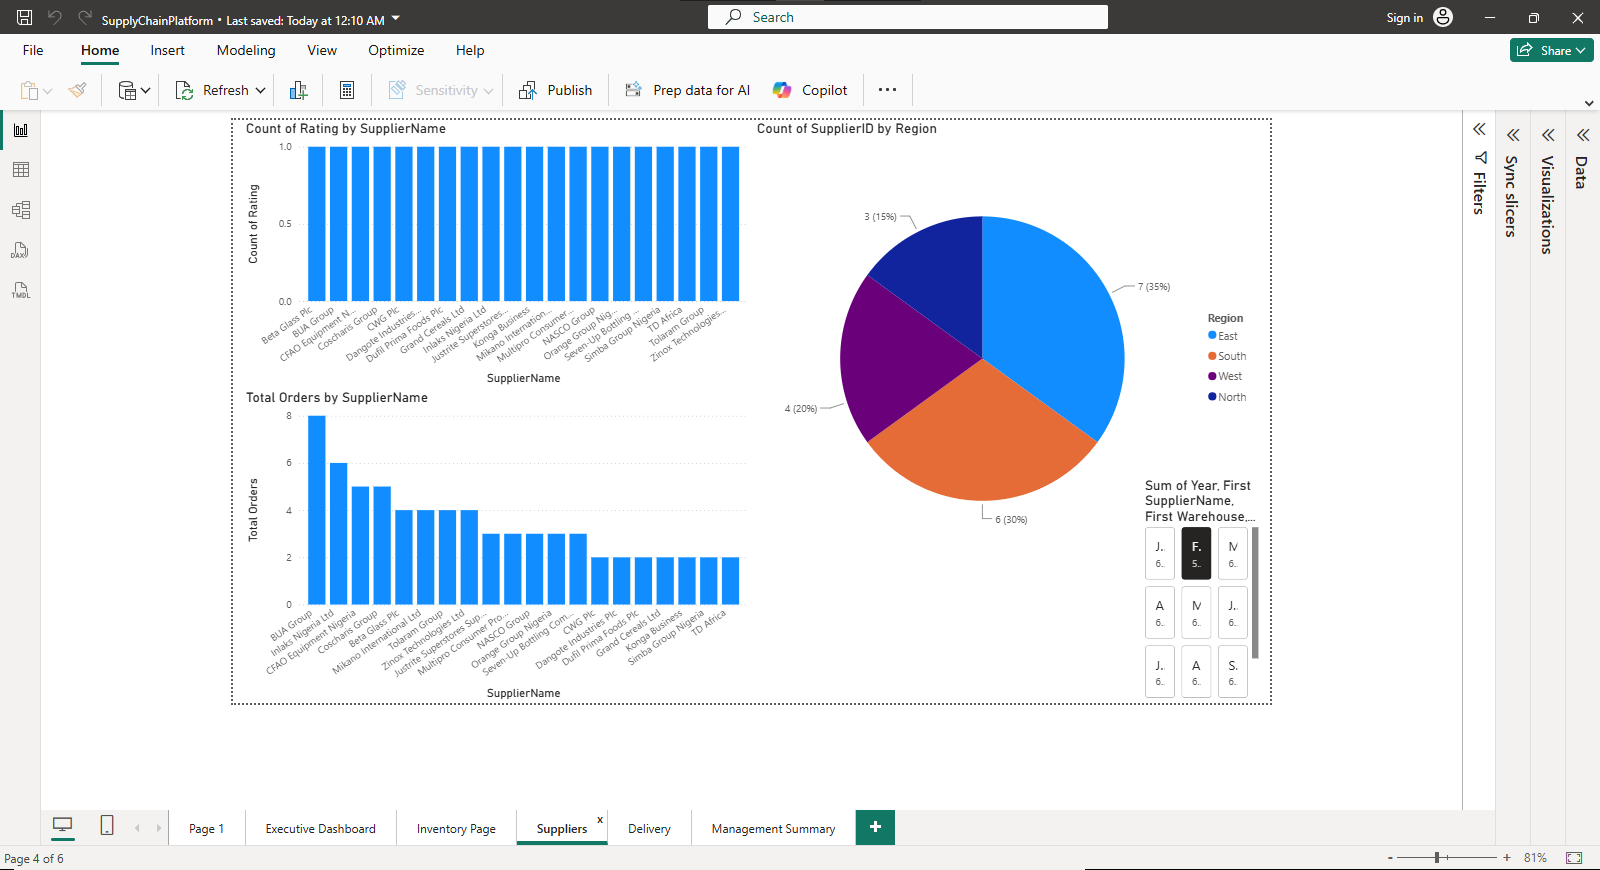

The dashboard page shown, as its layout file describes it:
{"tool":"powerbi","page":{"name":"Suppliers","canvas":[1280,720],"ordinal":3},"visuals":[{"type":"clusteredColumnChart","fields":{"Category":["Suppliers.SupplierName"],"Y":["CountNonNull(Suppliers.Rating)"]},"box":[11.6,0,629.7,331.6],"z":0},{"type":"clusteredColumnChart","fields":{"Category":["Suppliers.SupplierName"],"Y":["Orders.Total Orders"]},"box":[11.6,331.6,629.7,388.1],"z":1},{"type":"pieChart","fields":{"Category":["Suppliers.Region"],"Y":["CountNonNull(Suppliers.SupplierID)"]},"box":[641.4,0,630.4,570.1],"z":2},{"type":"advancedSlicerVisual","fields":{"Label":["Sum(Calendar.Year)"],"Values":["Calendar.Month"]},"box":[1120.7,440.5,150.7,279.8],"z":3}]}

Visuals, with their boxes on the page's 1280x720 design canvas (x1, y1, x2, y2). These are canvas units, not pixel positions in the 1600x870 screenshot, which may show the page scaled, cropped or inside an application window:
clusteredColumnChart - Suppliers.SupplierName x CountNonNull(Suppliers.Rating): 12 0 641 332
clusteredColumnChart - Suppliers.SupplierName x Orders.Total Orders: 12 332 641 720
pieChart - Suppliers.Region x CountNonNull(Suppliers.SupplierID): 641 0 1272 570
advancedSlicerVisual - Sum(Calendar.Year) x Calendar.Month: 1121 440 1271 720
